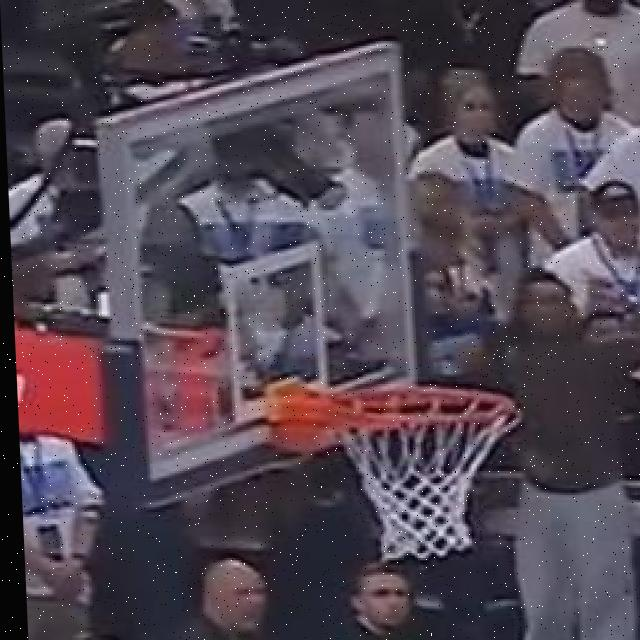hoop: (310, 359, 542, 562)
